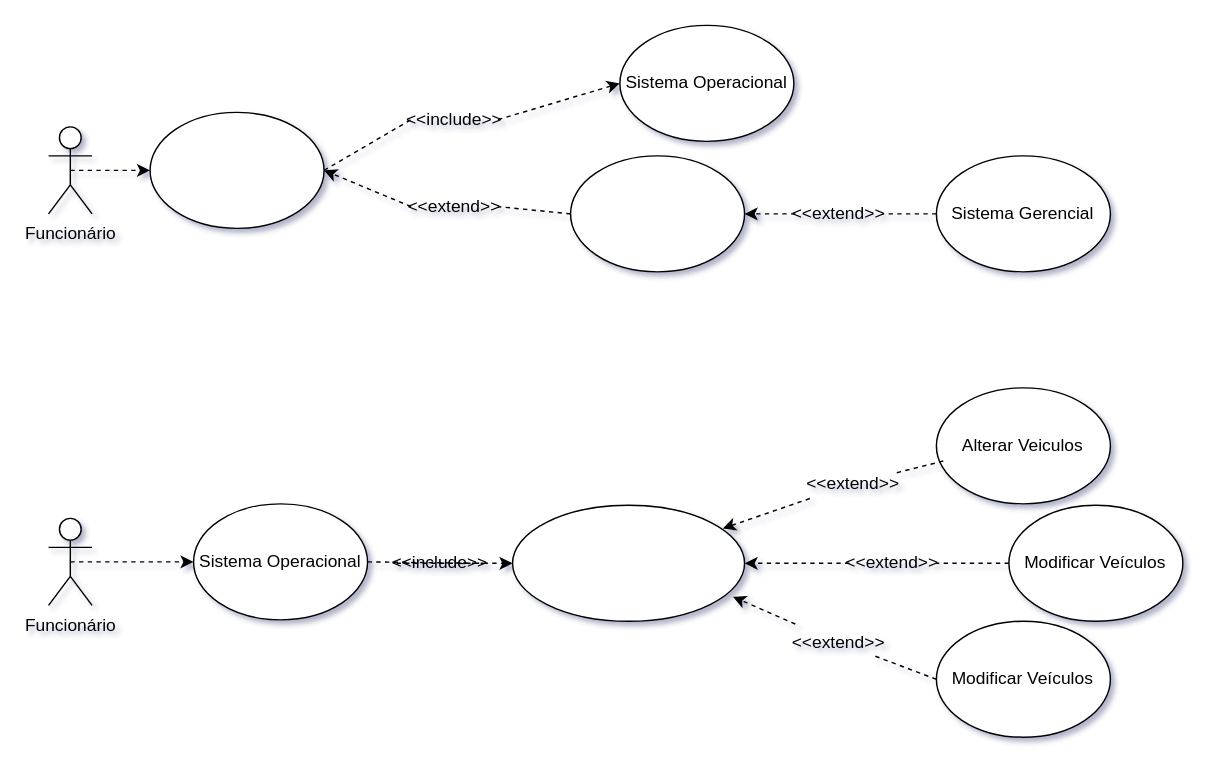
This 1218x771 diagram has some shape labels left out. The box of each missing label's shape, as (x1, y1, x2, y2) in pixels:
Realizar Login: (149, 111, 324, 228)
Relatório de Veículos: (511, 504, 745, 621)
Validar Acesso: (569, 154, 745, 272)
